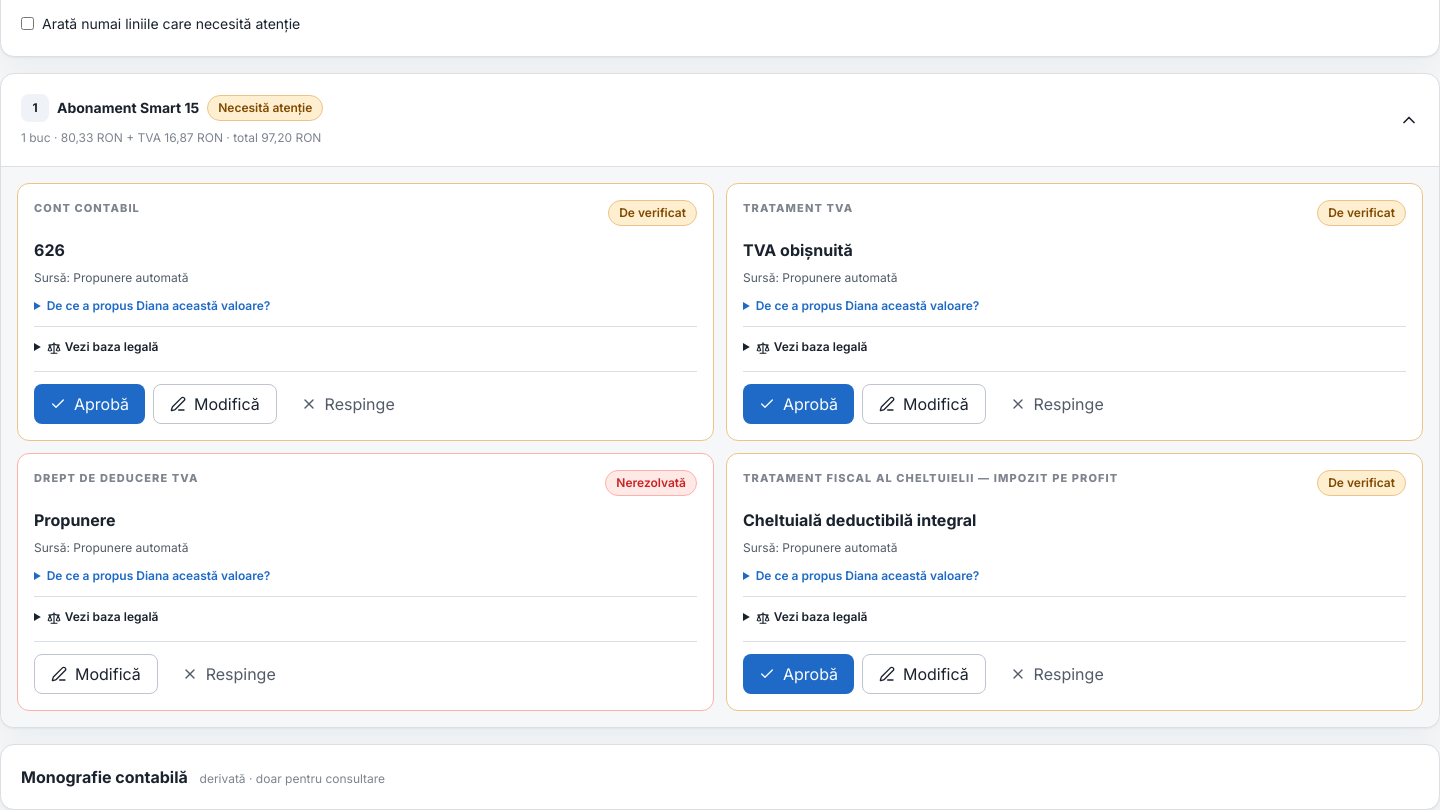
it: review contabil V2 unificat › arată fallback-ul manual după failure și permite modificarea structurată
The image size is (1440, 810).
(page scrolled)
What coordinates should you click on to do the following:
click the button "Modifică" below "Drept de deducere TVA"
I would click on:
 (96, 674)
Its box is [34,654,158,694].
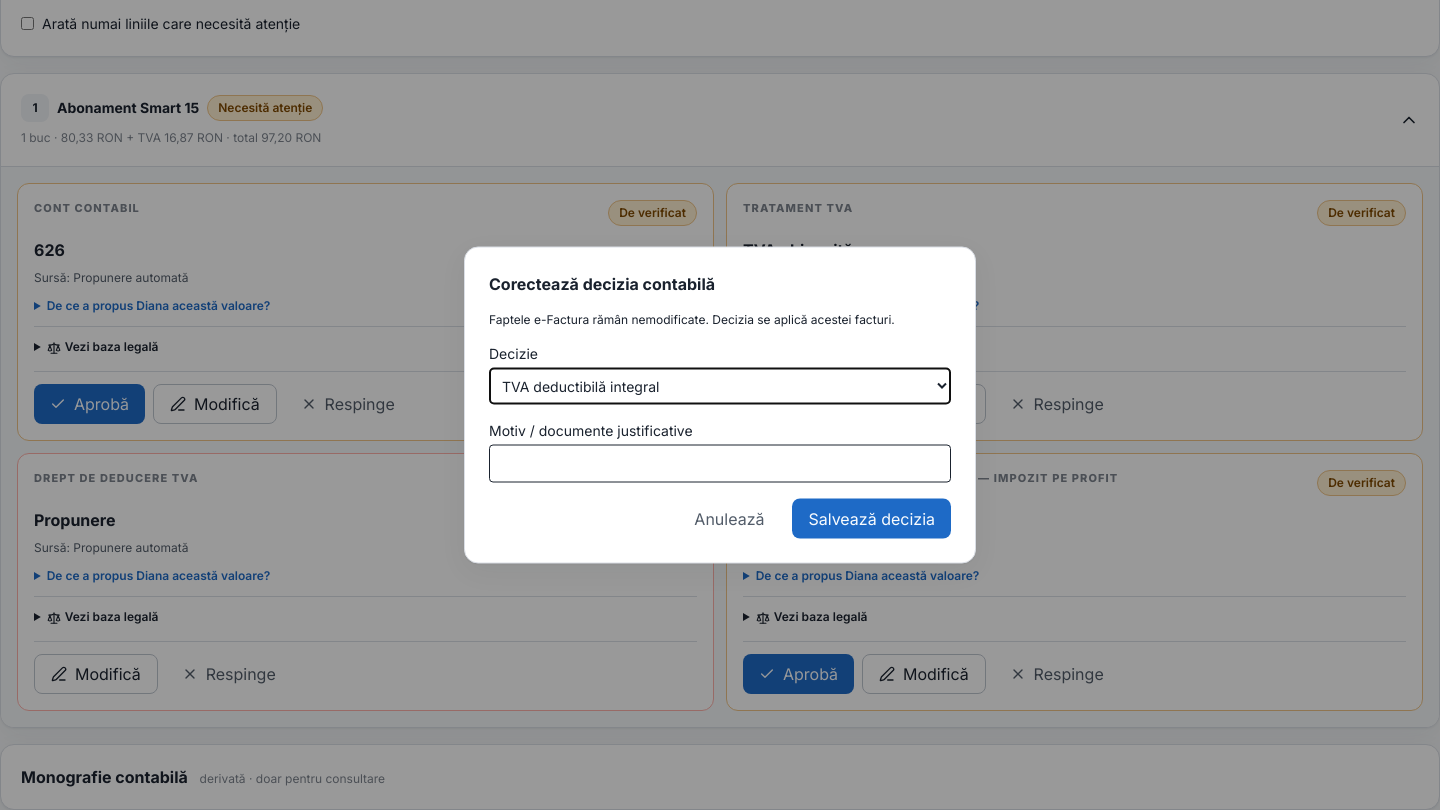
Now the dialog is shown, box [464,246,976,564]
